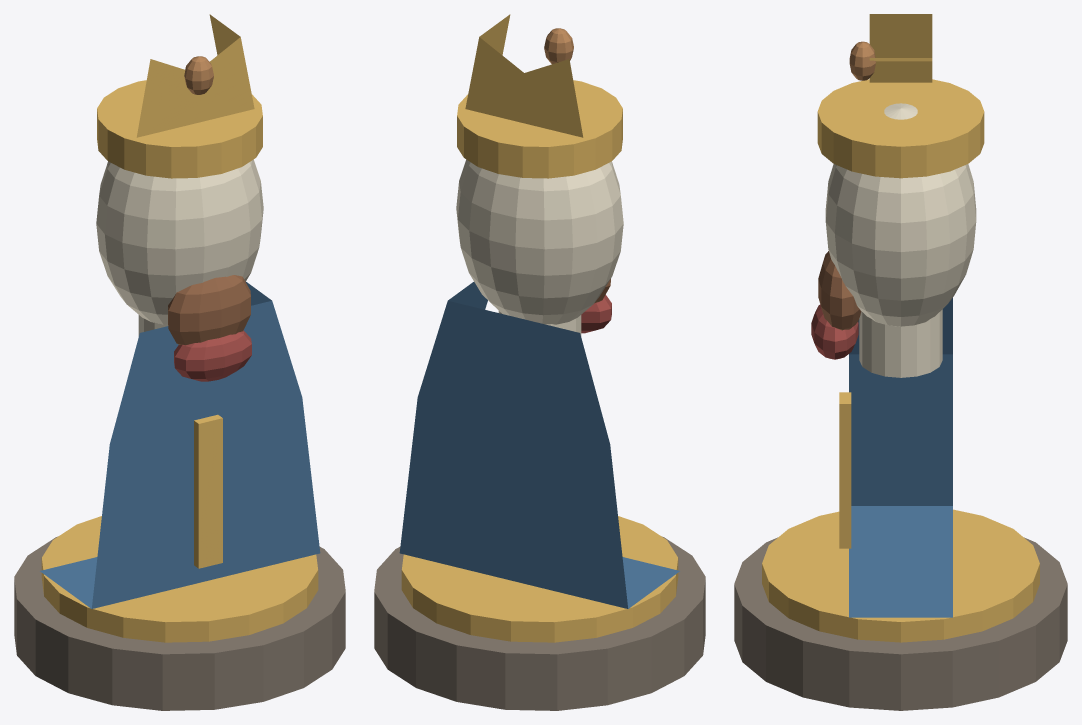
The model's file is shahu-maharaj.glb.
The picture shows the model from 3 angles, left to right: view 1: azimuth 30°, elevation 25°; view 2: azimuth 150°, elevation 25°; view 3: azimuth 270°, elevation 25°; orthographic projection.
Visible parts, largest first — view 1: Shahu Maharaj; view 2: Shahu Maharaj; view 3: Shahu Maharaj.
Boxes of the visible parts, x1,y1,x2,y2 form: Shahu Maharaj: (14,14,345,710); Shahu Maharaj: (374,14,705,710); Shahu Maharaj: (734,14,1067,710).
Size of the model in its own units: 0.96 by 1.92 by 0.96.
